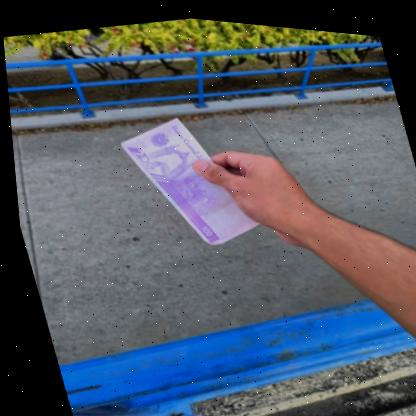one_hundred-back-vef: (109, 97, 262, 258)
